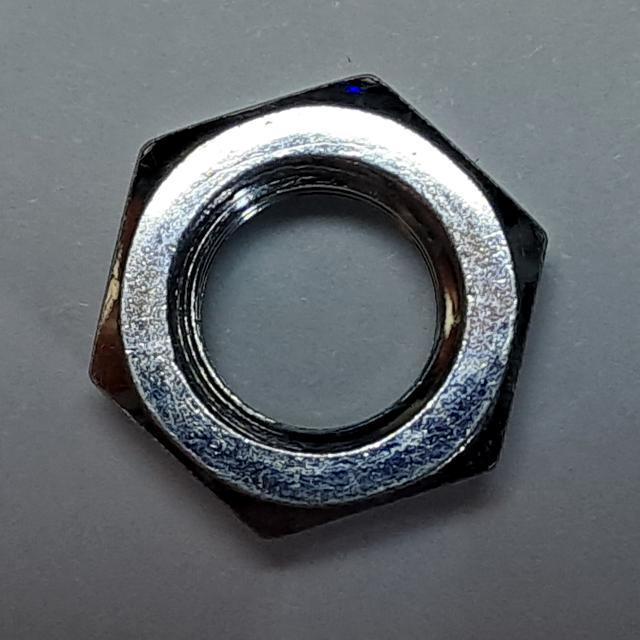Excellent: (75, 51, 571, 553)
